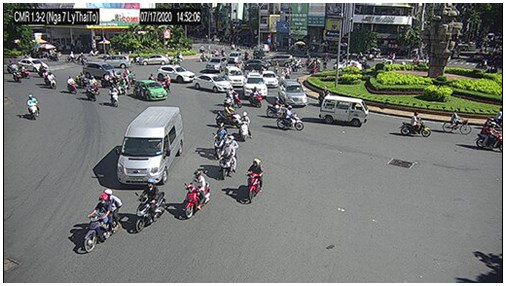xe_dap: (441, 108, 472, 138)
xe_hoi: (320, 96, 368, 129), (279, 78, 307, 107), (157, 65, 195, 84), (193, 74, 232, 92), (134, 80, 167, 101), (83, 62, 121, 80), (244, 71, 268, 98), (224, 66, 248, 89), (19, 58, 49, 73), (237, 59, 270, 71), (103, 55, 132, 68), (139, 53, 169, 65), (265, 53, 292, 65), (205, 57, 228, 71), (334, 61, 364, 71), (262, 70, 278, 88), (226, 51, 242, 64)
xe_khach: (115, 106, 185, 187)
xe_may: (83, 189, 121, 253), (134, 179, 165, 233), (182, 171, 212, 219), (220, 135, 240, 180), (246, 158, 265, 205), (401, 111, 432, 139), (476, 122, 503, 152), (215, 102, 243, 129), (276, 105, 304, 132), (214, 123, 230, 161), (266, 97, 288, 118), (239, 112, 252, 143), (27, 94, 41, 121), (226, 86, 243, 108), (249, 87, 263, 109), (44, 71, 58, 91), (107, 85, 119, 108), (308, 56, 322, 73), (118, 75, 129, 96), (86, 83, 97, 102), (66, 76, 77, 93), (162, 75, 173, 92), (22, 65, 32, 80), (13, 68, 22, 84), (199, 51, 207, 62)
